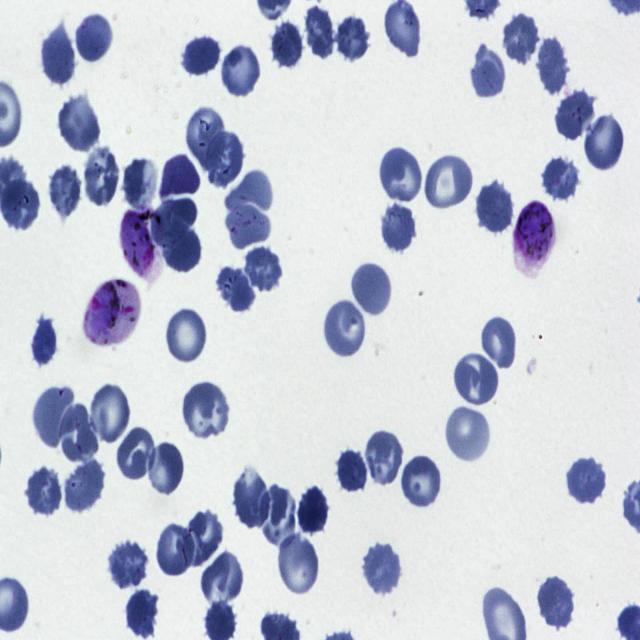difficult: (86, 277, 139, 347), (120, 204, 159, 281)
gametocyte: (513, 199, 557, 272)
red blood cell: (181, 379, 232, 443), (32, 382, 78, 449), (424, 152, 476, 211), (443, 404, 492, 466), (276, 530, 321, 596), (452, 348, 501, 408), (322, 297, 368, 360), (184, 105, 226, 174), (378, 145, 424, 206), (200, 548, 246, 608), (90, 381, 132, 446), (258, 482, 298, 550), (57, 93, 101, 154), (583, 112, 626, 173), (165, 304, 208, 365), (232, 467, 272, 532), (61, 457, 105, 516), (81, 142, 120, 208), (180, 506, 220, 570), (400, 452, 444, 510), (364, 428, 406, 488), (350, 259, 392, 319), (39, 22, 77, 88), (203, 131, 245, 190), (59, 401, 99, 462), (116, 424, 158, 482), (0, 176, 42, 233), (554, 88, 597, 143), (220, 42, 262, 98), (146, 440, 186, 498), (362, 539, 402, 597), (535, 34, 571, 98), (224, 202, 272, 250), (501, 11, 542, 66), (152, 197, 198, 246), (156, 522, 196, 578), (107, 537, 149, 590), (537, 574, 576, 630), (476, 180, 515, 235), (470, 45, 508, 101), (481, 314, 518, 371), (214, 264, 256, 314), (225, 168, 272, 212), (181, 31, 223, 80), (566, 456, 607, 506), (161, 224, 202, 274), (380, 201, 418, 254), (25, 464, 63, 517), (48, 162, 82, 220), (121, 156, 157, 210), (161, 153, 202, 200), (540, 155, 580, 203), (296, 484, 331, 537), (76, 16, 115, 63), (335, 13, 371, 63), (303, 5, 335, 60), (269, 21, 304, 71), (335, 448, 369, 498), (124, 590, 159, 638), (244, 245, 280, 290), (29, 318, 59, 372)
